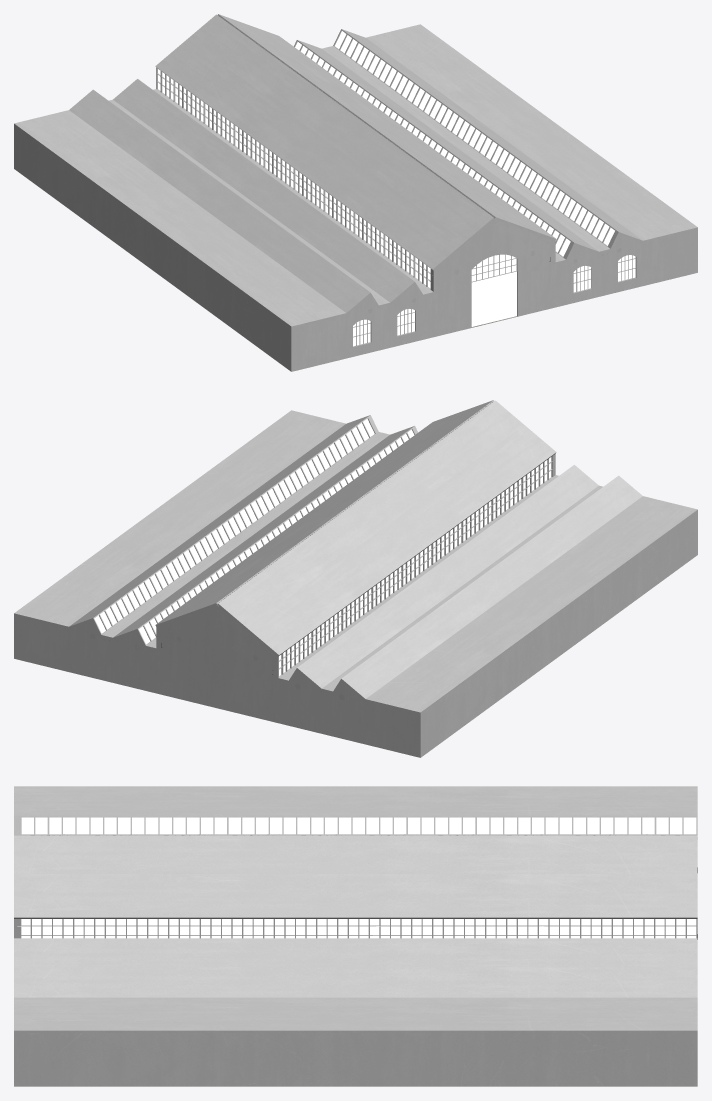
File: Warehouse_old.glb
The picture shows the model from 3 angles, top to bottom: view 1: azimuth 30°, elevation 25°; view 2: azimuth 150°, elevation 25°; view 3: azimuth 270°, elevation 25°; orthographic projection. The views are drawn at different scales.
Visible parts, largest first — view 1: color[14], color, color[6], color[5], color[16], color[10], color[13], color[246], color[247], color[208], color[190], color[7] (+13 smaller); view 2: color[14], color, color[6], color[5], color[16], color[293], color[292], color[10], color[13], color[208], color[190], color[7] (+12 smaller); view 3: color[15], color[152], color[186], color, color[210], color[14], color[2], color[189], color[234], color[188], color[12], color[1] (+2 smaller).
Part boxes in pixels (bbox=[...]): color[14]: bbox=[14, 110, 346, 328]; color: bbox=[366, 24, 697, 242]; color[6]: bbox=[155, 39, 465, 270]; color[5]: bbox=[188, 14, 494, 242]; color[16]: bbox=[15, 126, 290, 370]; color[10]: bbox=[113, 80, 413, 303]; color[13]: bbox=[69, 91, 369, 314]; color[246]: bbox=[290, 220, 494, 371]; color[247]: bbox=[494, 219, 697, 316]; color[208]: bbox=[335, 31, 614, 245]; color[190]: bbox=[158, 69, 430, 288]; color[7]: bbox=[156, 68, 435, 293]; color[14]: bbox=[365, 496, 697, 714]; color: bbox=[14, 410, 345, 628]; color[6]: bbox=[246, 425, 556, 656]; color[5]: bbox=[217, 400, 523, 628]; color[16]: bbox=[421, 512, 696, 756]; color[293]: bbox=[217, 606, 421, 757]; color[292]: bbox=[14, 605, 217, 707]; color[10]: bbox=[298, 466, 598, 689]; color[13]: bbox=[342, 477, 642, 700]; color[208]: bbox=[94, 418, 374, 633]; color[190]: bbox=[279, 457, 551, 675]; color[7]: bbox=[276, 454, 555, 679]; color[15]: bbox=[17, 1033, 694, 1086]; color[152]: bbox=[14, 874, 697, 918]; color[186]: bbox=[14, 835, 697, 873]; color: bbox=[14, 997, 697, 1032]; color[210]: bbox=[14, 967, 697, 997]; color[14]: bbox=[14, 786, 697, 815]; color[2]: bbox=[14, 940, 697, 964]; color[189]: bbox=[17, 919, 696, 938]; color[234]: bbox=[21, 817, 696, 834]; color[188]: bbox=[14, 919, 697, 938]; color[12]: bbox=[14, 815, 697, 834]; color[1]: bbox=[14, 938, 697, 940].
Size of the model in its own units: 44 by 10.87 by 52.03.
Materials: 5 (4 with a texture image).
